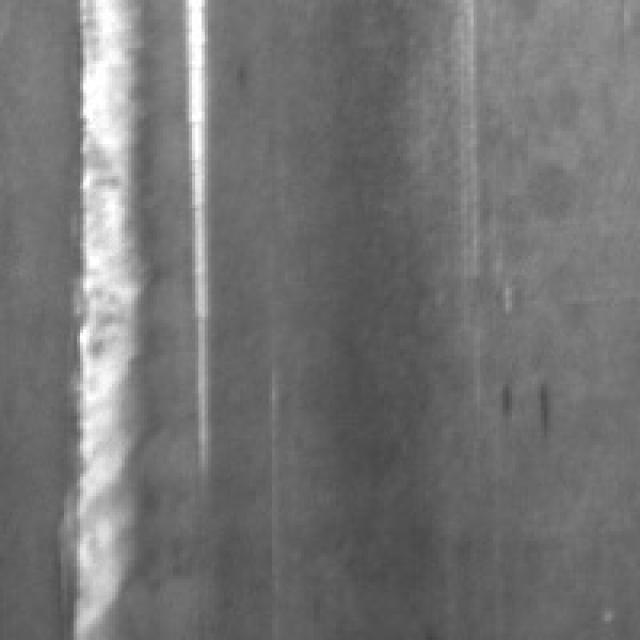scratches: (61, 0, 166, 634), (182, 0, 230, 477)
